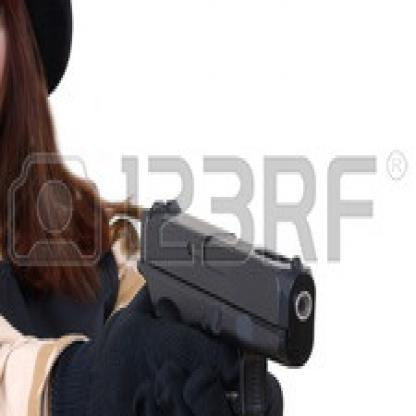gun: (133, 200, 316, 413)
